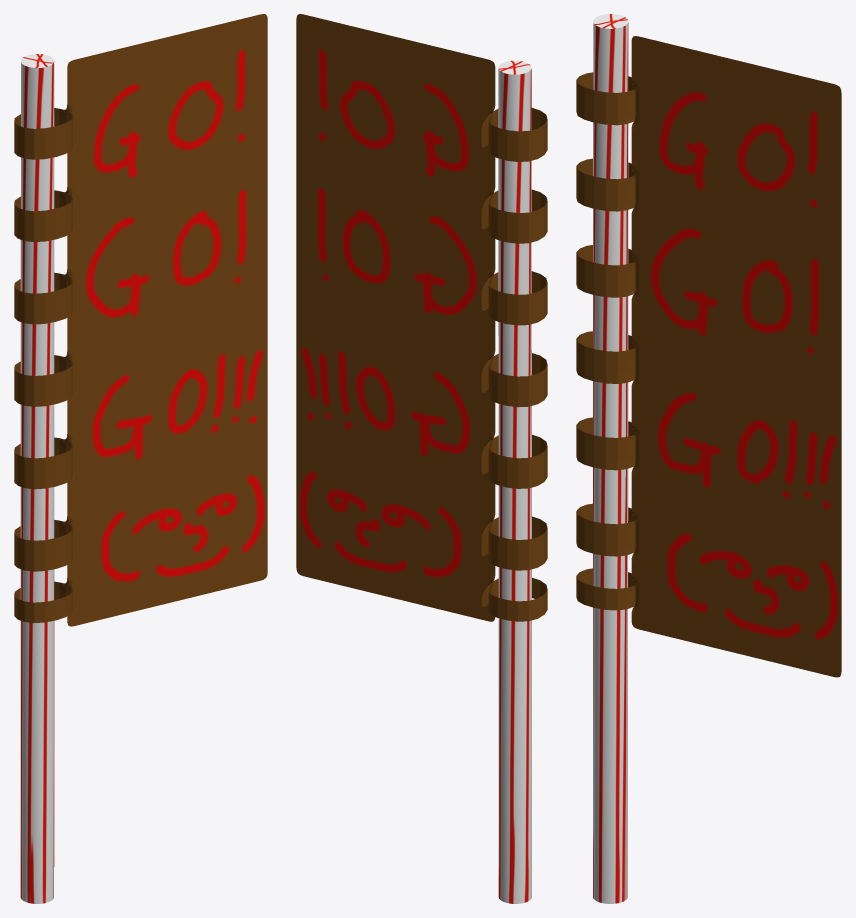
The model's file is SideFlagBanner.fbx.
3 renders of one model, left to right at view 1: azimuth 30°, elevation 25°; view 2: azimuth 150°, elevation 25°; view 3: azimuth 330°, elevation 25°, orthographic. The views are drawn at different scales.
Parts seen in each view (by area): view 1: SideFlagBanner, FlagPoleStand.002; view 2: SideFlagBanner, FlagPoleStand.002; view 3: SideFlagBanner, FlagPoleStand.002.
Boxes of the visible parts, x1,y1,x2,y2 form: SideFlagBanner: (14,14,267,626); FlagPoleStand.002: (20,54,54,903); SideFlagBanner: (296,14,547,621); FlagPoleStand.002: (498,60,531,903); SideFlagBanner: (576,36,841,677); FlagPoleStand.002: (593,14,628,903).
Bounding box in the file's own units: 249 × 796 × 44.51.
2 materials, 2 textured.
